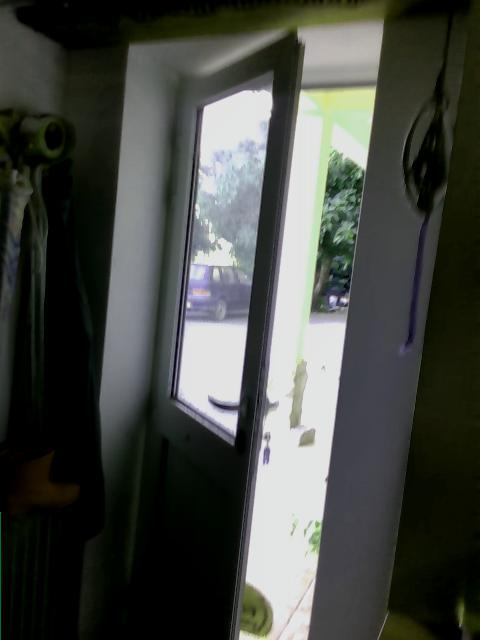semi_door: (124, 21, 389, 639)
